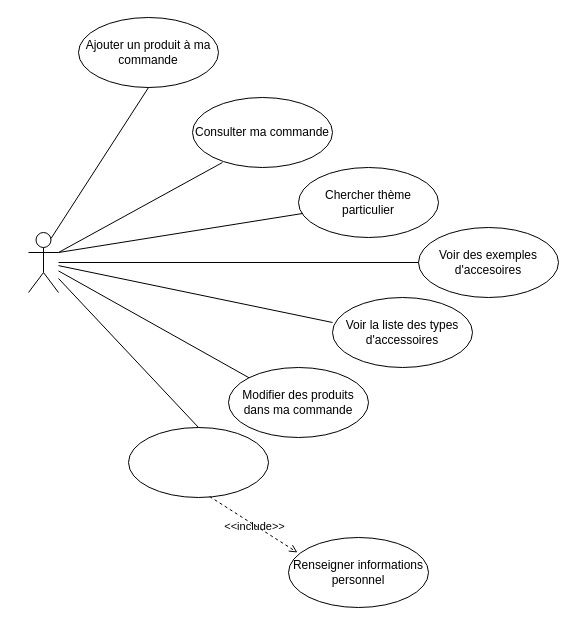
Image size: 576x625. Some labels were removed from this diagram. The shapes that lost their labels are listed below. From the top down, each one's centre as x and y in pixels, then its label:
At [43,262]: "Utilisateur".
At [198,462]: "commander".
